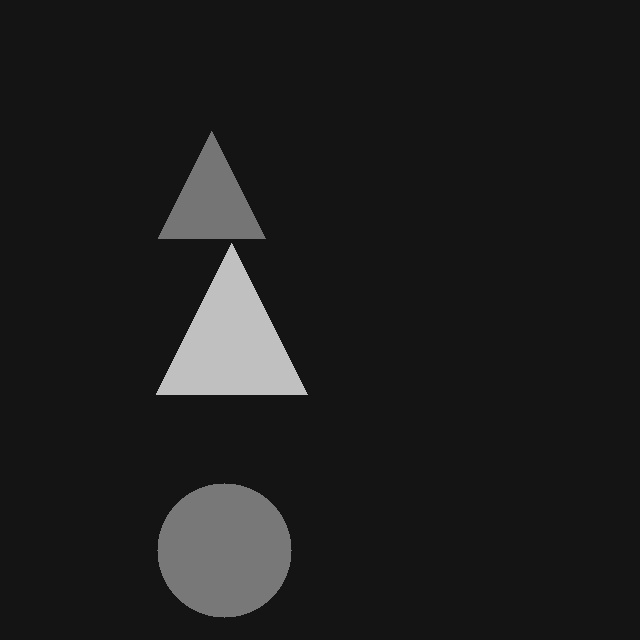circle: (157, 483, 291, 617)
triangle: (156, 243, 307, 394), (158, 131, 265, 238)
